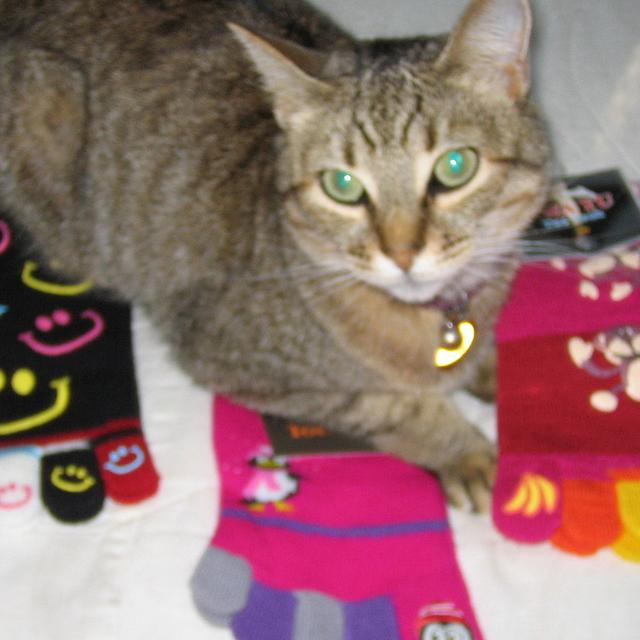animals: (228, 0, 521, 268)
